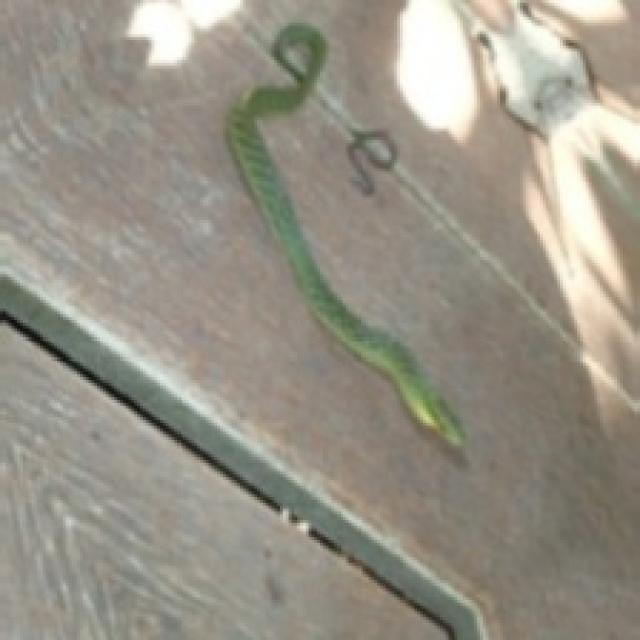red-tailed green ratsnake: (226, 23, 463, 446)
